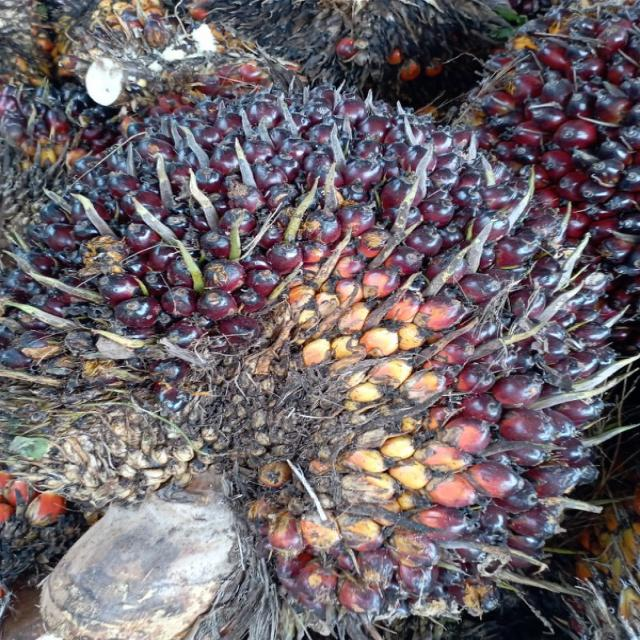fraksi 00: (4, 68, 640, 588)
